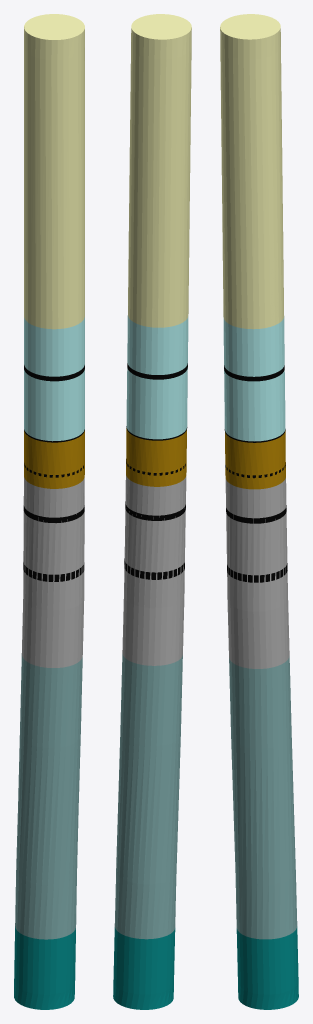
3 renders of one model, left to right at view 1: azimuth 90°, elevation 25°; view 2: azimuth 150°, elevation 25°; view 3: azimuth 330°, elevation 25°, orthographic.
Parts seen in each view (by area): view 1: object_1, object_5, object_4, object_2, object_6, object_3, object_11, object_10, object_7; view 2: object_1, object_5, object_4, object_2, object_6, object_3, object_11, object_10, object_7; view 3: object_1, object_5, object_4, object_2, object_6, object_3, object_11, object_10, object_7.
Boxes of the visible parts, x1,y1,x2,y2 form: object_1: [24, 14, 84, 329]; object_5: [15, 654, 82, 939]; object_4: [21, 477, 84, 667]; object_2: [24, 317, 84, 441]; object_6: [14, 926, 75, 1009]; object_3: [24, 431, 84, 488]; object_11: [23, 562, 84, 581]; object_10: [23, 505, 84, 523]; object_7: [24, 365, 84, 381]; object_1: [128, 14, 191, 327]; object_5: [114, 654, 182, 939]; object_4: [122, 475, 186, 665]; object_2: [126, 315, 188, 439]; object_6: [113, 927, 175, 1009]; object_3: [126, 428, 186, 486]; object_11: [124, 558, 184, 579]; object_10: [125, 501, 185, 520]; object_7: [127, 363, 187, 379]; object_1: [220, 14, 283, 329]; object_5: [229, 656, 297, 939]; object_4: [225, 478, 289, 668]; object_2: [223, 316, 285, 441]; object_6: [236, 926, 298, 1009]; object_3: [225, 430, 285, 489]; object_11: [227, 563, 287, 582]; object_10: [226, 505, 286, 523]; object_7: [224, 365, 284, 381].
Size of the model in its own units: 24.89 by 353 by 23.27.
